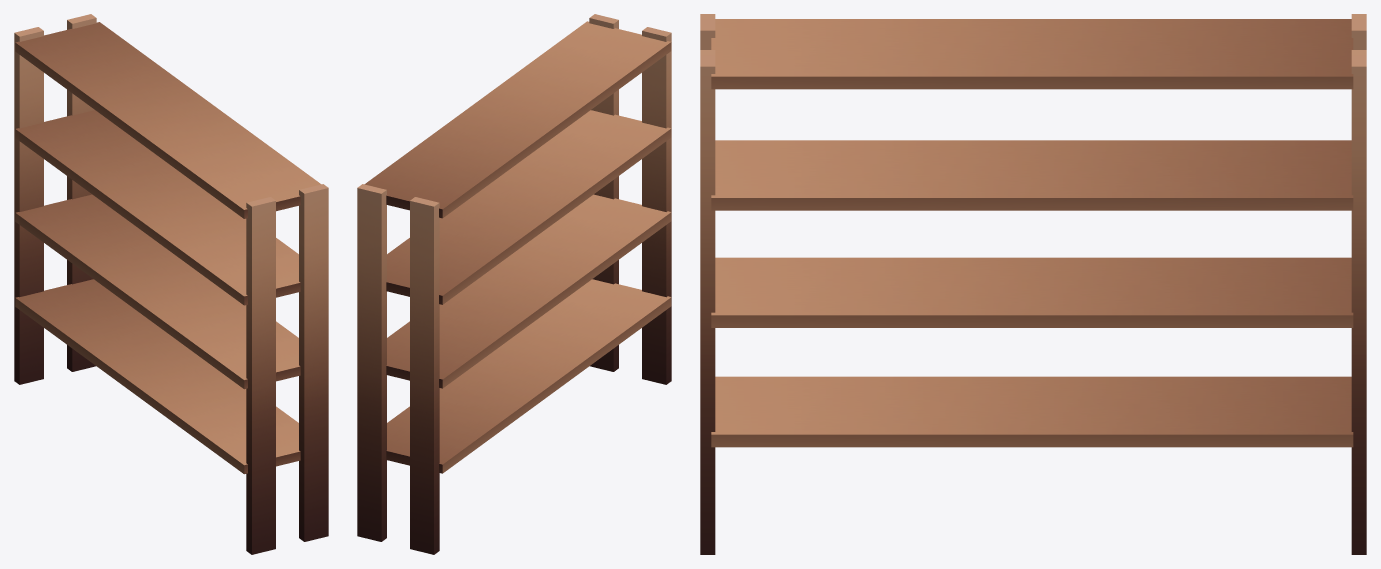
Rendered from SM_bookshelf2.fbx.
3 views of the same model, side by side, from view 1: azimuth 30°, elevation 25°; view 2: azimuth 150°, elevation 25°; view 3: azimuth 270°, elevation 25° (orthographic). The views are drawn at different scales.
Visible parts, largest first — view 1: bookshelf; view 2: bookshelf; view 3: bookshelf.
Boxes of the visible parts, x1,y1,x2,y2 form: bookshelf: (14, 14, 328, 554); bookshelf: (357, 14, 671, 554); bookshelf: (700, 14, 1366, 554).
Size of the model in its own units: 4.27 by 16.87 by 20.86.
